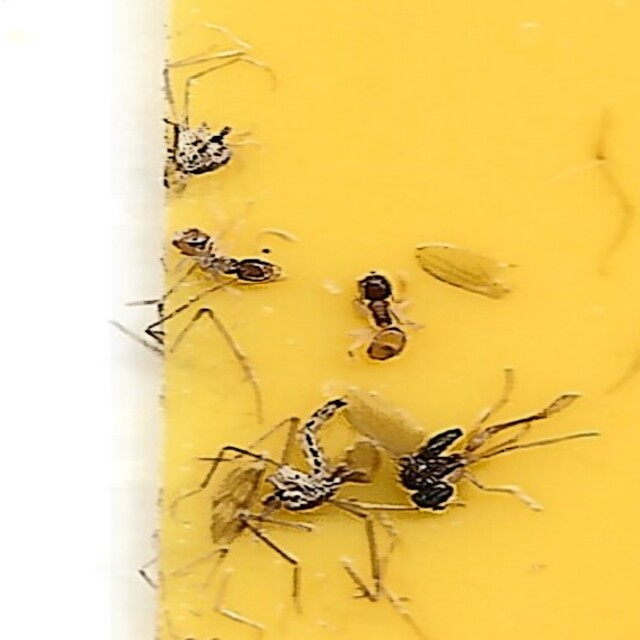Brachycera: (386, 423, 482, 520)
Isoptera: (166, 220, 292, 293), (351, 269, 420, 369)
Nematocera: (231, 396, 379, 528), (158, 112, 237, 183)
